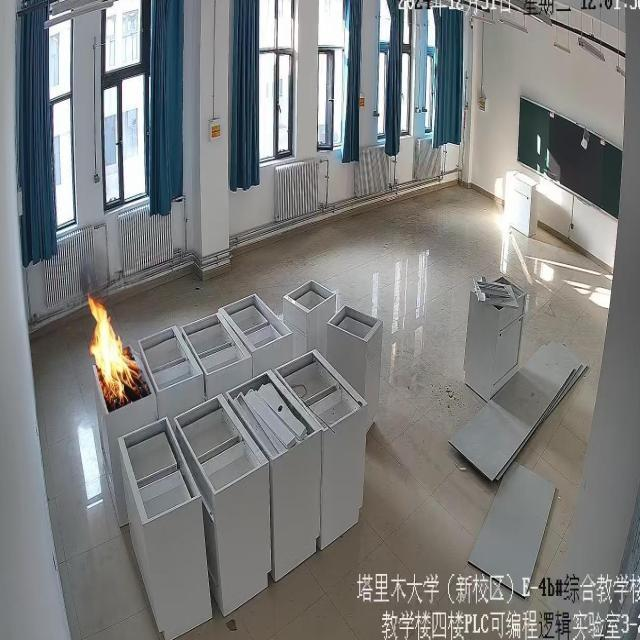smoke: (86, 286, 139, 405)
